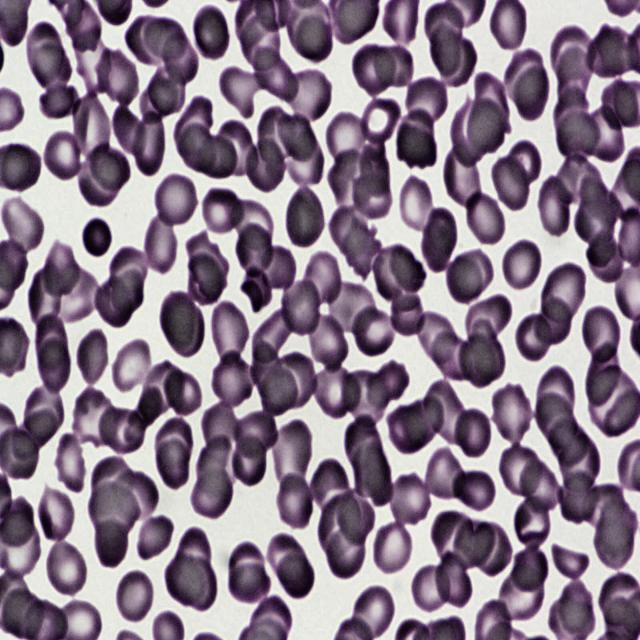red blood cell: (370, 241, 426, 307), (550, 25, 594, 109), (587, 367, 639, 436), (432, 508, 492, 567), (344, 415, 386, 495), (456, 326, 506, 392), (540, 260, 586, 330), (54, 258, 102, 325), (243, 121, 288, 192), (594, 496, 636, 572), (70, 387, 118, 452), (158, 290, 205, 356), (247, 49, 300, 107), (20, 380, 64, 449), (424, 380, 470, 445), (196, 437, 244, 499), (490, 381, 535, 447), (185, 232, 230, 298), (93, 45, 139, 109), (272, 420, 312, 493), (96, 400, 150, 454), (586, 23, 637, 79), (462, 290, 514, 344), (88, 480, 139, 535), (268, 350, 317, 407), (209, 300, 250, 368), (317, 493, 360, 557), (494, 567, 544, 622), (284, 183, 325, 250), (444, 142, 485, 209), (283, 66, 332, 122), (0, 194, 44, 256), (211, 351, 256, 411), (306, 310, 348, 374), (328, 150, 372, 211), (349, 582, 395, 640), (280, 275, 323, 337), (489, 149, 532, 211), (71, 94, 109, 164), (468, 519, 513, 578), (44, 539, 88, 599), (422, 447, 470, 502), (110, 468, 162, 518), (312, 366, 361, 419), (74, 28, 112, 96), (537, 174, 576, 240), (372, 517, 416, 575), (326, 282, 376, 333), (110, 245, 148, 312), (395, 112, 436, 174), (142, 208, 179, 276), (77, 154, 124, 207), (324, 111, 370, 165), (504, 48, 544, 110), (112, 337, 154, 396), (154, 172, 198, 228), (275, 468, 314, 531), (250, 245, 296, 298), (464, 189, 506, 247), (341, 368, 386, 422), (388, 472, 432, 527), (464, 95, 505, 154), (216, 118, 256, 178), (398, 173, 436, 236), (404, 76, 448, 130), (557, 470, 601, 524), (499, 440, 542, 495), (536, 394, 579, 449), (190, 3, 230, 62), (534, 365, 574, 424), (474, 72, 512, 134), (555, 154, 602, 204), (203, 400, 242, 460), (188, 467, 232, 520), (238, 15, 282, 68), (352, 42, 395, 96), (324, 527, 367, 581), (448, 465, 497, 512), (358, 96, 403, 147), (75, 326, 112, 388), (520, 460, 564, 512), (340, 224, 383, 277), (453, 98, 486, 167), (43, 128, 85, 182), (254, 307, 296, 361), (36, 486, 75, 544), (586, 104, 625, 162), (25, 20, 63, 79), (234, 223, 274, 279), (30, 263, 62, 333), (165, 552, 205, 608), (560, 435, 600, 491), (310, 458, 349, 515), (134, 108, 166, 177), (585, 342, 620, 405), (13, 408, 57, 458), (144, 15, 187, 66), (91, 456, 134, 507), (294, 12, 336, 64), (403, 397, 444, 450), (185, 253, 223, 310), (228, 198, 274, 245), (582, 482, 628, 529), (502, 238, 542, 292), (580, 304, 620, 358), (153, 414, 193, 468), (245, 138, 285, 192), (258, 105, 295, 163), (54, 430, 87, 495), (142, 361, 181, 416), (581, 176, 623, 227), (385, 405, 426, 457), (302, 252, 342, 305), (585, 231, 625, 284), (555, 110, 600, 157), (88, 142, 132, 190), (353, 307, 396, 356), (174, 97, 213, 151), (328, 204, 369, 255), (115, 568, 153, 623), (287, 133, 323, 191), (558, 46, 591, 109), (182, 558, 219, 614), (225, 561, 271, 606), (63, 0, 102, 53), (574, 200, 616, 249), (175, 527, 213, 581), (123, 14, 164, 64), (416, 313, 457, 363), (2, 588, 42, 639), (452, 407, 491, 459), (452, 247, 495, 294), (235, 409, 278, 456), (366, 359, 409, 406), (514, 66, 550, 122), (220, 66, 262, 114), (437, 552, 473, 608), (148, 62, 186, 115), (268, 534, 308, 584), (134, 513, 174, 563), (548, 537, 592, 582), (338, 492, 374, 547), (351, 173, 393, 220), (439, 35, 476, 88), (515, 313, 554, 363), (94, 278, 133, 328), (358, 139, 392, 196), (44, 240, 78, 297), (554, 82, 588, 139), (200, 190, 242, 236), (600, 78, 637, 130), (424, 1, 464, 49), (432, 332, 472, 380), (558, 578, 592, 634), (260, 367, 298, 417), (36, 312, 68, 371), (412, 565, 453, 611), (428, 21, 462, 76), (279, 115, 317, 164), (38, 338, 71, 394), (373, 42, 413, 88), (232, 432, 266, 486), (34, 44, 73, 91), (112, 104, 147, 156), (278, 552, 315, 601), (178, 124, 218, 169), (512, 498, 550, 545), (164, 369, 201, 417), (38, 77, 79, 120), (139, 78, 178, 123), (511, 545, 550, 590), (229, 542, 264, 592), (157, 437, 190, 490), (445, 256, 482, 303), (389, 288, 425, 336), (536, 298, 573, 344), (550, 421, 587, 467), (506, 141, 542, 188), (94, 521, 129, 568), (194, 136, 235, 176), (424, 220, 454, 274), (164, 39, 200, 84), (250, 340, 282, 390), (427, 206, 457, 259), (82, 217, 110, 257)
